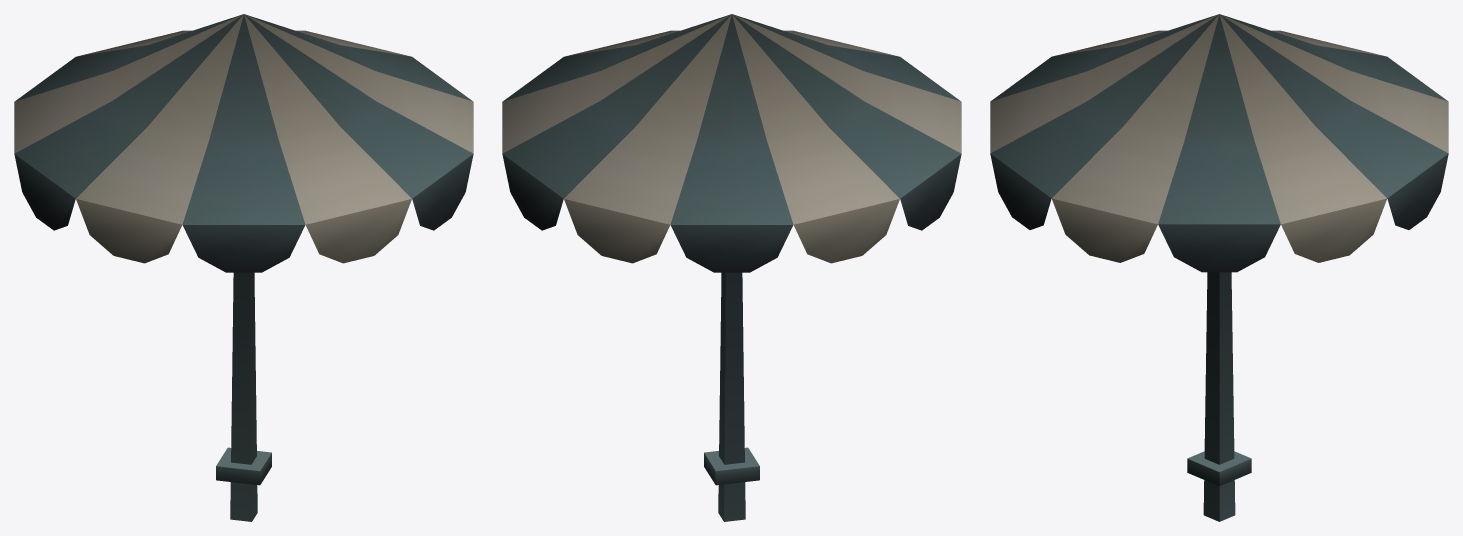
File: Umbrella_2D.fbx
The picture shows the model from 3 angles, left to right: view 1: azimuth 30°, elevation 25°; view 2: azimuth 150°, elevation 25°; view 3: azimuth 270°, elevation 25°; orthographic projection.
Parts seen in each view (by area): view 1: Umbrella_2D; view 2: Umbrella_2D; view 3: Umbrella_2D.
Boxes of the visible parts, <box> form: Umbrella_2D: <box>14,14,473,521</box>; Umbrella_2D: <box>502,14,961,521</box>; Umbrella_2D: <box>990,14,1448,521</box>.
Size of the model in its own units: 366 by 442 by 366.
